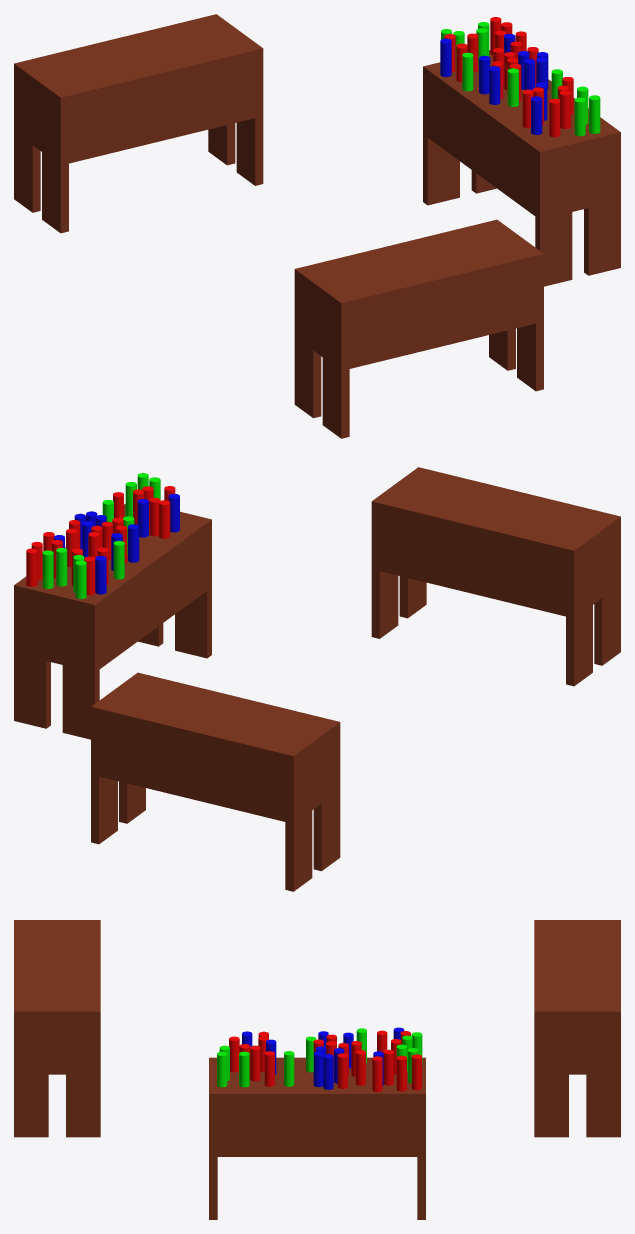
The model's file is sort_clutter_10.dae.
3 views of the same model, one above another, from view 1: azimuth 30°, elevation 25°; view 2: azimuth 150°, elevation 25°; view 3: azimuth 270°, elevation 25° (orthographic). The views are drawn at different scales.
Parts seen in each view (by area): view 1: base (×14); view 2: base (×14); view 3: base (×9).
Part boxes in pixels (x1,y1,x2,y2): base (×14): (14,14,620,438); base (×14): (14,467,620,891); base (×9): (14,920,620,1219).
Bounding box in the file's own units: 2.38 × 3.5 × 1.
